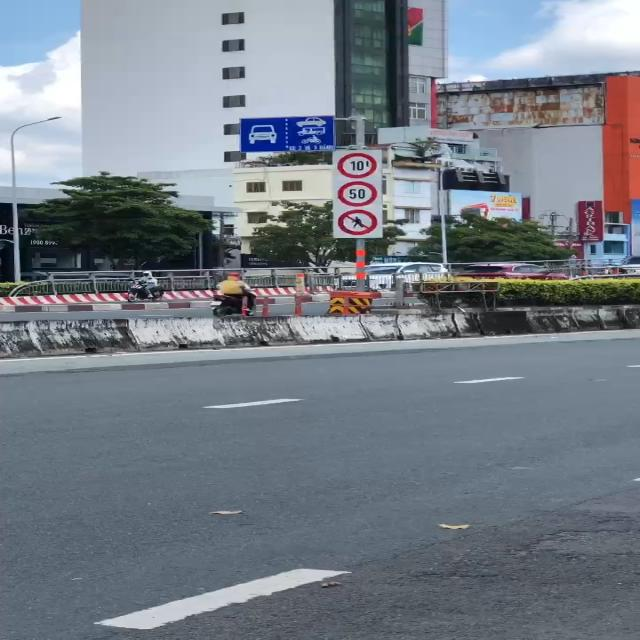Bien bao cam nguoi di bo: (334, 207, 381, 237)
Bien bao toc do toi da cho phep: (336, 180, 381, 206)
